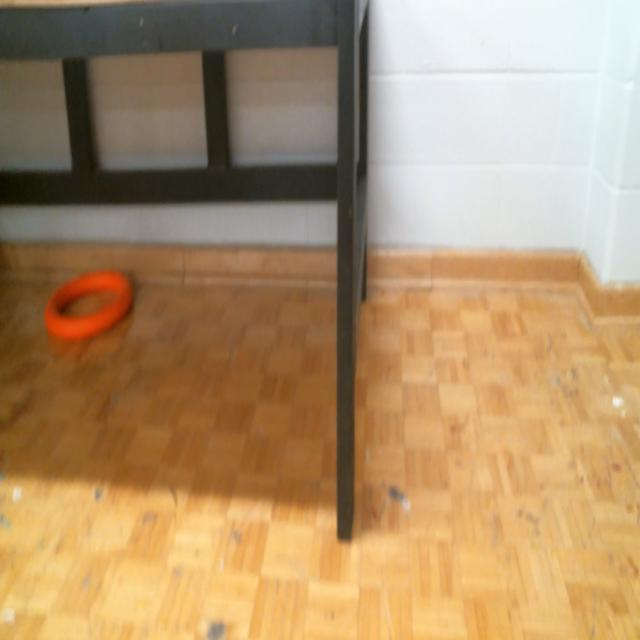note: (45, 268, 134, 346)
